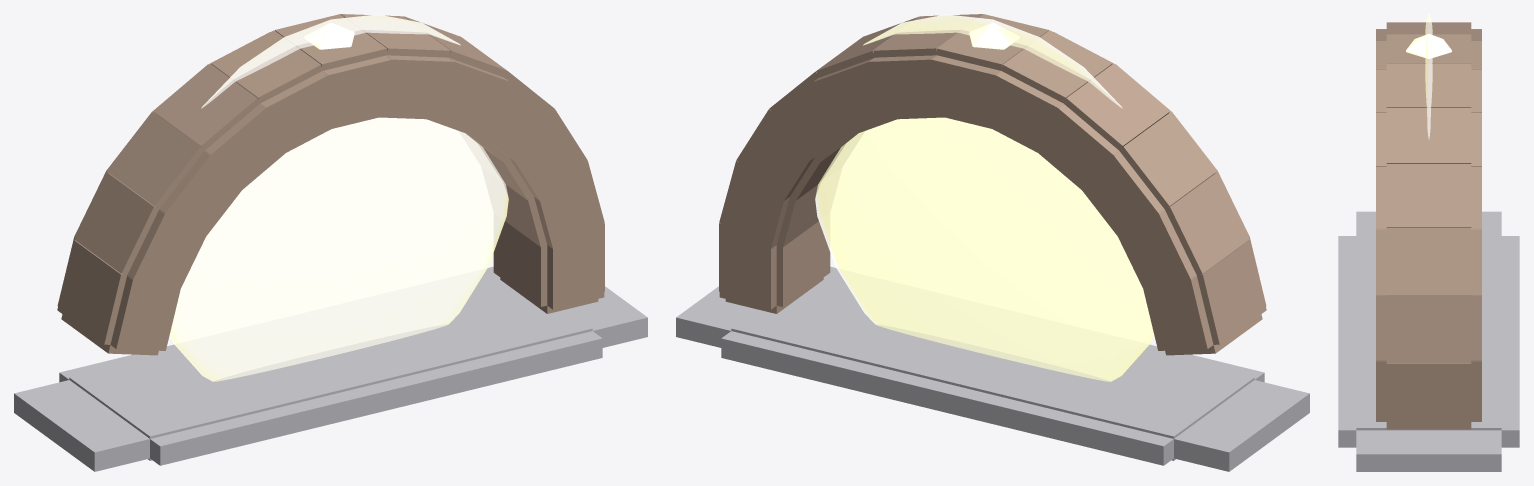
The model's file is build_portal_desert.glb.
3 renders of one model, left to right at view 1: azimuth 30°, elevation 25°; view 2: azimuth 150°, elevation 25°; view 3: azimuth 270°, elevation 25°, orthographic. The views are drawn at different scales.
Parts seen in each view (by area): view 1: box; view 2: box; view 3: box.
Part boxes in pixels (x1,y1,x2,y2): box: (14,14,647,471); box: (676,14,1309,471); box: (1338,14,1519,471).
Bounding box in the file's own units: 3.8 × 2.5 × 1.2.
